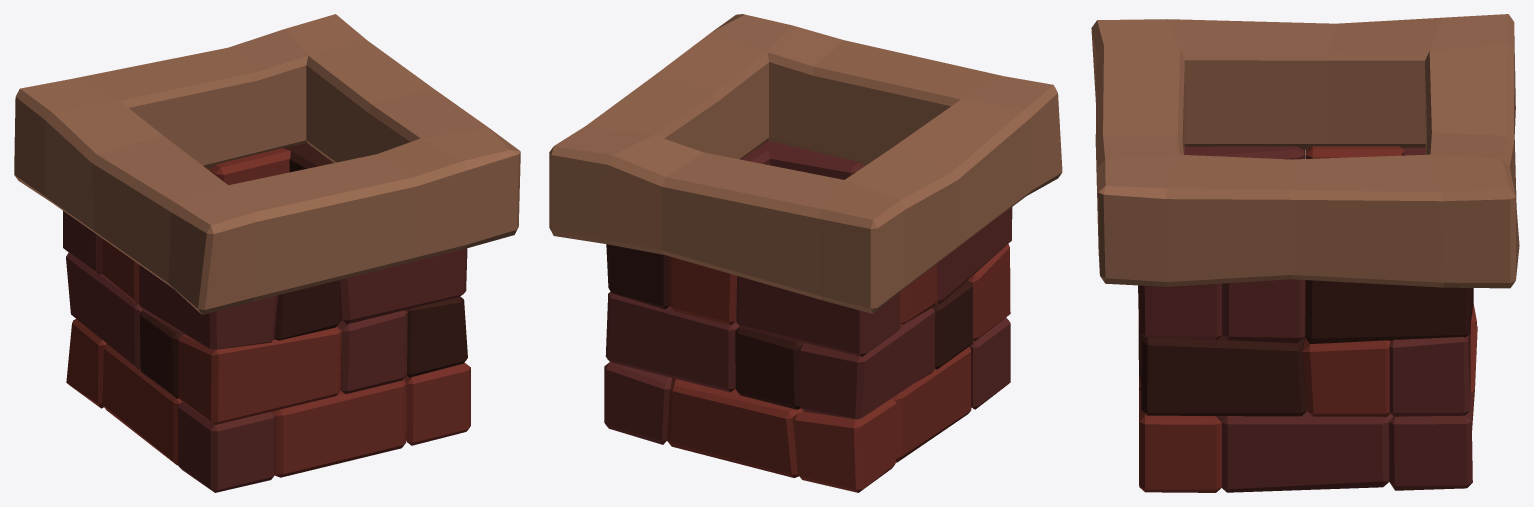
The model's file is Chimney.fbx.
3 views of the same model, side by side, from view 1: azimuth 30°, elevation 25°; view 2: azimuth 150°, elevation 25°; view 3: azimuth 270°, elevation 25° (orthographic). The views are drawn at different scales.
Parts seen in each view (by area): view 1: Cube.024, Cube.004, Cube.012, Cube.022; view 2: Cube.024, Cube.004, Cube.012, Cube.022; view 3: Cube.024, Cube.004, Cube.012, Cube.022.
Boxes of the visible parts, x1=… form: Cube.024: x1=14, y1=14, x2=520, y2=314; Cube.004: x1=66, y1=319, x2=470, y2=492; Cube.012: x1=66, y1=253, x2=467, y2=424; Cube.022: x1=63, y1=143, x2=467, y2=349; Cube.024: x1=549, y1=14, x2=1062, y2=313; Cube.004: x1=604, y1=317, x2=1010, y2=492; Cube.012: x1=605, y1=244, x2=1010, y2=419; Cube.022: x1=606, y1=140, x2=1012, y2=356; Cube.024: x1=1091, y1=14, x2=1519, y2=288; Cube.004: x1=1139, y1=304, x2=1477, y2=492; Cube.012: x1=1138, y1=304, x2=1470, y2=417; Cube.022: x1=1138, y1=146, x2=1473, y2=343.
Bounding box in the file's own units: 10.05 × 8.59 × 10.25.
